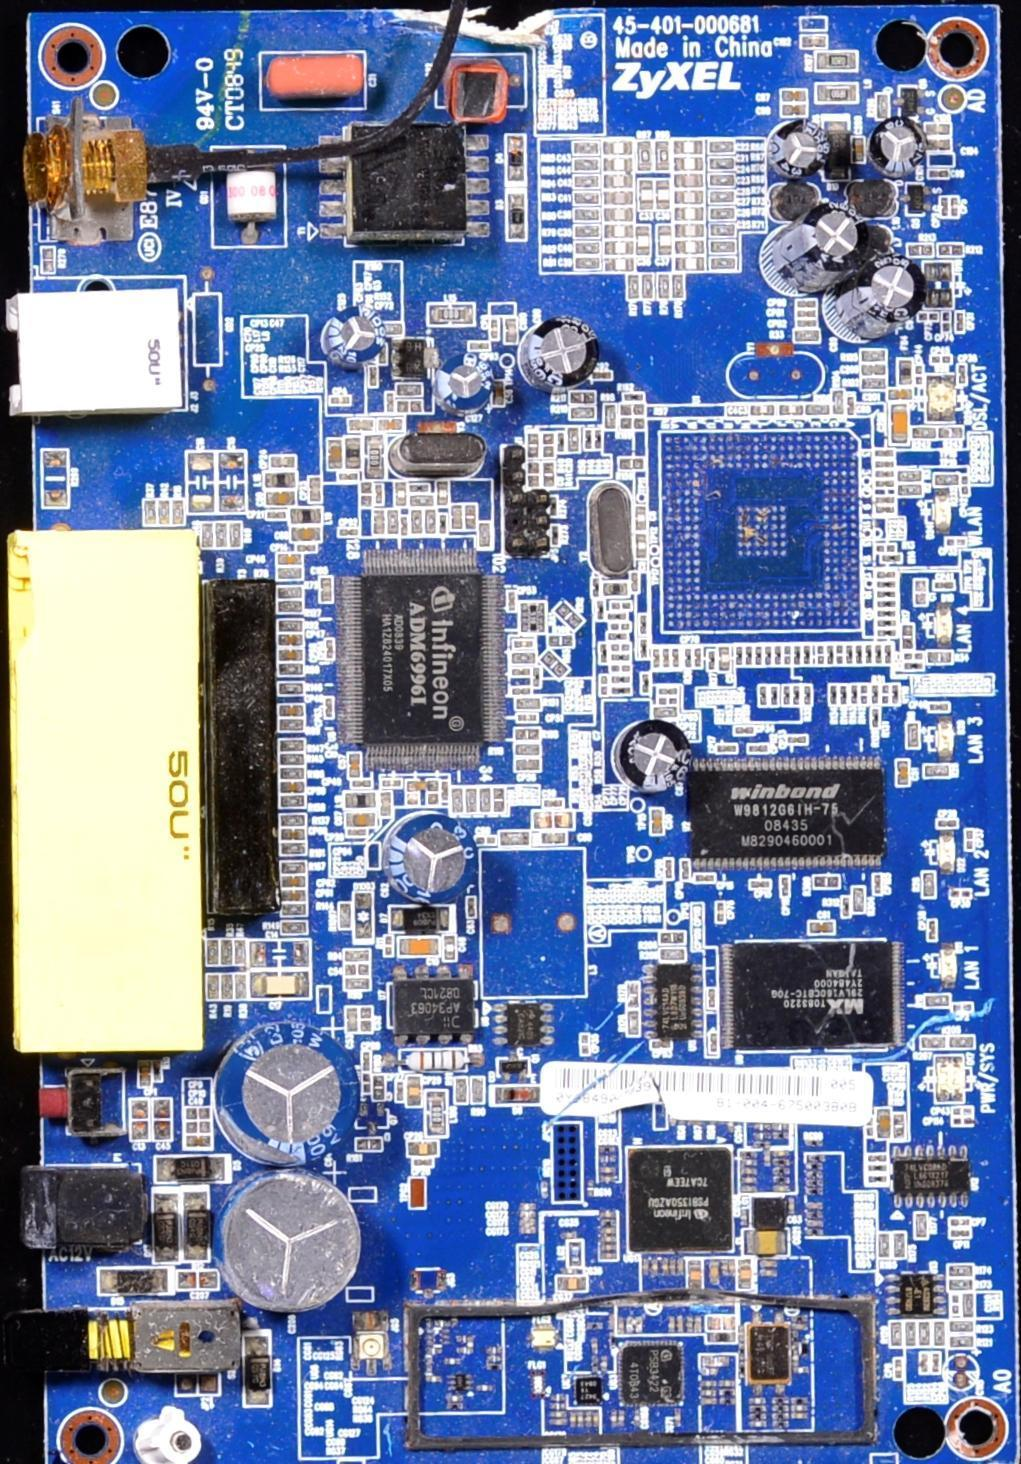Capacitor: (217, 1016, 368, 1164), (227, 1172, 362, 1311), (384, 814, 484, 910), (613, 713, 692, 798), (799, 204, 871, 277), (861, 257, 932, 312), (774, 117, 831, 175), (870, 119, 926, 177), (187, 450, 218, 514), (42, 451, 73, 511), (219, 450, 248, 513), (250, 940, 311, 969), (248, 971, 311, 998), (128, 1097, 150, 1141), (887, 404, 911, 446), (397, 935, 440, 957), (152, 1097, 174, 1140), (176, 1272, 222, 1288), (942, 375, 958, 423), (927, 376, 941, 423), (635, 222, 654, 254), (737, 1259, 755, 1292), (655, 139, 672, 172), (636, 140, 653, 174), (405, 1076, 423, 1107), (505, 535, 530, 556), (638, 180, 655, 211), (602, 223, 635, 238), (655, 222, 671, 255), (688, 1259, 705, 1289), (288, 527, 322, 542), (344, 813, 378, 828), (183, 1135, 215, 1150), (656, 177, 671, 210), (673, 239, 708, 252), (601, 239, 636, 252), (405, 780, 440, 793), (533, 810, 555, 831), (531, 506, 550, 530), (407, 1142, 441, 1156), (671, 223, 705, 236), (602, 257, 636, 270), (507, 507, 525, 533), (182, 1119, 213, 1134), (603, 207, 634, 221), (554, 810, 575, 831), (651, 809, 667, 836), (876, 1108, 890, 1140), (556, 1277, 588, 1291), (672, 206, 704, 219), (230, 520, 245, 548), (138, 1057, 151, 1088), (851, 135, 864, 166), (859, 364, 890, 377), (275, 703, 306, 716), (927, 137, 954, 151), (542, 461, 556, 488), (674, 141, 704, 155), (603, 174, 633, 187), (603, 190, 633, 204), (347, 751, 363, 776), (528, 491, 550, 508), (672, 257, 706, 268), (674, 157, 705, 169), (603, 158, 634, 170), (329, 437, 342, 468), (780, 104, 807, 117), (957, 362, 970, 389), (604, 404, 617, 432), (542, 431, 555, 458), (277, 634, 305, 648), (897, 760, 911, 788), (278, 826, 306, 839), (674, 173, 704, 186), (801, 34, 828, 48), (347, 418, 374, 432), (526, 461, 539, 487), (277, 781, 306, 793), (182, 1107, 213, 1118), (674, 191, 705, 202), (925, 122, 951, 136), (619, 456, 645, 469), (809, 921, 834, 934), (44, 246, 57, 274), (276, 554, 304, 566), (508, 467, 527, 485), (506, 446, 526, 463), (508, 487, 525, 507), (279, 889, 309, 900), (604, 141, 631, 154), (566, 427, 580, 452), (815, 875, 840, 889), (444, 934, 456, 961), (781, 90, 808, 102), (265, 493, 297, 503), (395, 481, 407, 506), (635, 505, 647, 531), (380, 418, 404, 432), (277, 649, 305, 660), (513, 698, 541, 709), (278, 877, 308, 887), (706, 1314, 724, 1330), (202, 523, 214, 549), (919, 1352, 931, 1374), (323, 695, 334, 720), (932, 1351, 943, 1374), (636, 535, 647, 558), (153, 1059, 165, 1081), (794, 318, 819, 328), (887, 390, 912, 401), (527, 434, 537, 458), (722, 1314, 736, 1331), (950, 1217, 971, 1228), (892, 1358, 903, 1379), (750, 880, 773, 890), (581, 1032, 591, 1054), (874, 460, 895, 469), (694, 648, 704, 669), (517, 1225, 539, 1234), (795, 308, 818, 317), (583, 1410, 593, 1428), (796, 298, 817, 307), (781, 875, 790, 897), (868, 1152, 885, 1163), (593, 1410, 602, 1429), (663, 647, 671, 670), (672, 647, 680, 670), (613, 602, 632, 611), (771, 1184, 792, 1191), (747, 1397, 768, 1405), (549, 1418, 571, 1426), (747, 1421, 768, 1428), (576, 1410, 585, 1427), (548, 1418, 568, 1426), (876, 449, 896, 457), (772, 1150, 791, 1158), (740, 1176, 758, 1184), (805, 1202, 824, 1209), (790, 1405, 809, 1413), (790, 1412, 809, 1419), (632, 1409, 640, 1428), (654, 646, 661, 667), (517, 1217, 537, 1224), (718, 1380, 735, 1387), (740, 1168, 758, 1175), (740, 1185, 759, 1192), (519, 1203, 538, 1209), (804, 1220, 823, 1227), (699, 1381, 717, 1387), (700, 1389, 718, 1396), (675, 1409, 682, 1427), (569, 1410, 575, 1431), (740, 1159, 758, 1165), (518, 1210, 536, 1216), (700, 1398, 717, 1404)
IC: (343, 562, 505, 768), (693, 760, 892, 868), (725, 936, 899, 1043), (631, 1147, 736, 1248), (638, 959, 714, 1044), (895, 1146, 975, 1208), (394, 980, 474, 1037), (618, 1340, 686, 1403), (877, 1271, 941, 1317), (507, 1001, 542, 1045), (116, 1268, 159, 1295), (153, 1211, 180, 1253), (248, 1355, 271, 1390), (574, 1376, 601, 1404), (446, 1374, 476, 1390), (503, 1061, 530, 1073), (201, 1375, 218, 1395)
Resistor: (925, 262, 952, 306), (519, 602, 547, 635), (816, 51, 859, 71), (816, 83, 858, 103), (365, 435, 382, 479), (344, 791, 378, 810), (345, 435, 362, 471), (264, 471, 299, 487), (874, 91, 890, 121), (278, 860, 308, 876), (602, 581, 630, 597), (268, 454, 299, 468), (277, 841, 308, 855), (279, 920, 310, 934), (205, 973, 220, 1002), (829, 388, 843, 418), (277, 794, 307, 809), (709, 207, 737, 221), (275, 681, 304, 695), (709, 223, 736, 237), (749, 404, 776, 418), (308, 476, 323, 504), (318, 575, 333, 603), (276, 600, 304, 614), (277, 618, 305, 633), (277, 718, 305, 732), (142, 498, 156, 528), (572, 158, 601, 171), (573, 257, 602, 270), (710, 258, 738, 271), (897, 357, 912, 384), (216, 523, 230, 549), (278, 765, 307, 779), (571, 141, 602, 153), (859, 349, 890, 362), (293, 511, 324, 523), (172, 498, 186, 526), (158, 498, 171, 526), (276, 585, 304, 598), (277, 738, 305, 751), (235, 972, 249, 998), (709, 140, 735, 153), (708, 156, 735, 169), (793, 328, 820, 342), (781, 403, 808, 416), (276, 567, 302, 581), (281, 903, 308, 917), (879, 1232, 891, 1260), (572, 208, 601, 220), (572, 224, 601, 236), (905, 1320, 919, 1346), (933, 1322, 946, 1347), (939, 243, 964, 256), (922, 995, 950, 1007), (708, 174, 736, 186), (572, 175, 600, 187), (573, 191, 601, 204), (277, 664, 305, 676), (277, 752, 305, 764), (221, 940, 234, 968), (221, 973, 234, 1001), (920, 1037, 947, 1049), (948, 1319, 974, 1332), (854, 887, 867, 911), (893, 1233, 907, 1255), (860, 379, 889, 390), (708, 190, 734, 202), (962, 1292, 975, 1315), (709, 241, 736, 253), (279, 814, 307, 826), (571, 390, 595, 403), (924, 874, 937, 899), (918, 1322, 931, 1344), (948, 1336, 974, 1347), (872, 618, 901, 628), (874, 628, 903, 639), (235, 940, 246, 966), (573, 241, 601, 251), (874, 609, 902, 618), (950, 1036, 974, 1047), (949, 1279, 973, 1290), (891, 1323, 902, 1347), (882, 640, 893, 664), (916, 1213, 927, 1239), (209, 939, 219, 966), (928, 652, 951, 663), (864, 641, 874, 666), (949, 1264, 971, 1275), (807, 404, 832, 414), (337, 527, 361, 537), (801, 685, 813, 705), (568, 407, 595, 416), (875, 600, 902, 608), (802, 641, 811, 667), (867, 1173, 889, 1184), (791, 685, 802, 706), (265, 510, 288, 520), (754, 644, 764, 667), (793, 642, 802, 667), (848, 683, 858, 705), (774, 643, 783, 668), (928, 171, 949, 181), (954, 310, 964, 332), (838, 686, 847, 708), (769, 685, 780, 704), (875, 580, 899, 589), (854, 643, 863, 666), (326, 639, 336, 659), (875, 641, 883, 666), (734, 644, 743, 666), (875, 591, 900, 598), (831, 683, 839, 707), (870, 685, 880, 704), (781, 685, 791, 704), (875, 468, 896, 477), (296, 544, 317, 553), (759, 684, 767, 705), (827, 641, 835, 664), (744, 644, 752, 668), (764, 644, 772, 668), (807, 1154, 827, 1163), (684, 647, 693, 667), (847, 642, 854, 667), (549, 1411, 568, 1419), (610, 1409, 618, 1428), (804, 1187, 825, 1195), (771, 1412, 789, 1421), (805, 1211, 825, 1219), (595, 429, 603, 449), (892, 684, 900, 704), (909, 245, 922, 256), (772, 1159, 791, 1167), (804, 1163, 823, 1170), (772, 1167, 791, 1175), (805, 1170, 824, 1178), (771, 1422, 790, 1429), (873, 709, 881, 728), (805, 1229, 826, 1236), (584, 429, 591, 450), (558, 432, 565, 453), (607, 613, 628, 620), (862, 684, 869, 705), (771, 1396, 789, 1404), (718, 1397, 736, 1405), (618, 1411, 626, 1428), (846, 396, 854, 414), (876, 480, 894, 487), (771, 1176, 791, 1182), (804, 1180, 824, 1187), (740, 1151, 758, 1158), (748, 1406, 767, 1413), (719, 1389, 736, 1396), (790, 1397, 808, 1404), (748, 1413, 766, 1420), (596, 601, 603, 619), (868, 1167, 886, 1173), (448, 1403, 464, 1410), (771, 1405, 789, 1411), (608, 634, 630, 639), (931, 312, 940, 322), (904, 663, 919, 669), (919, 312, 926, 322), (942, 312, 949, 320), (944, 322, 950, 332)
